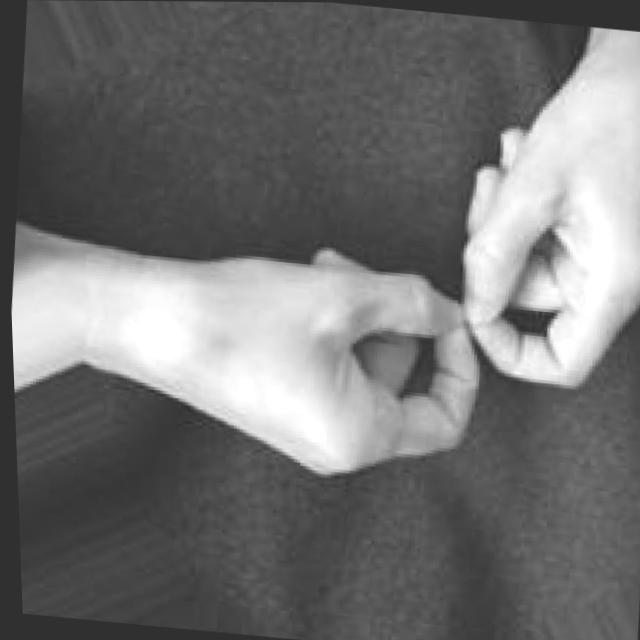B: (192, 7, 640, 507)
